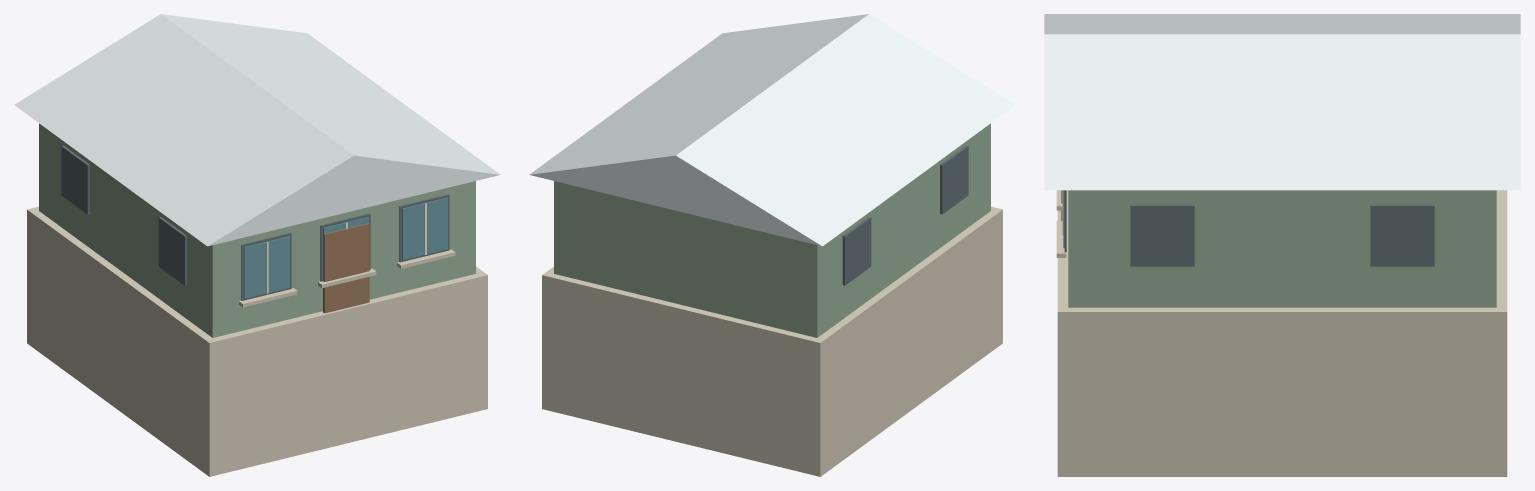
Rendered from polar-3.glb.
The picture shows the model from 3 angles, left to right: view 1: azimuth 30°, elevation 25°; view 2: azimuth 150°, elevation 25°; view 3: azimuth 270°, elevation 25°; orthographic projection. The views are drawn at different scales.
Size of the model in its own units: 7.8 by 7.4 by 8.9.
